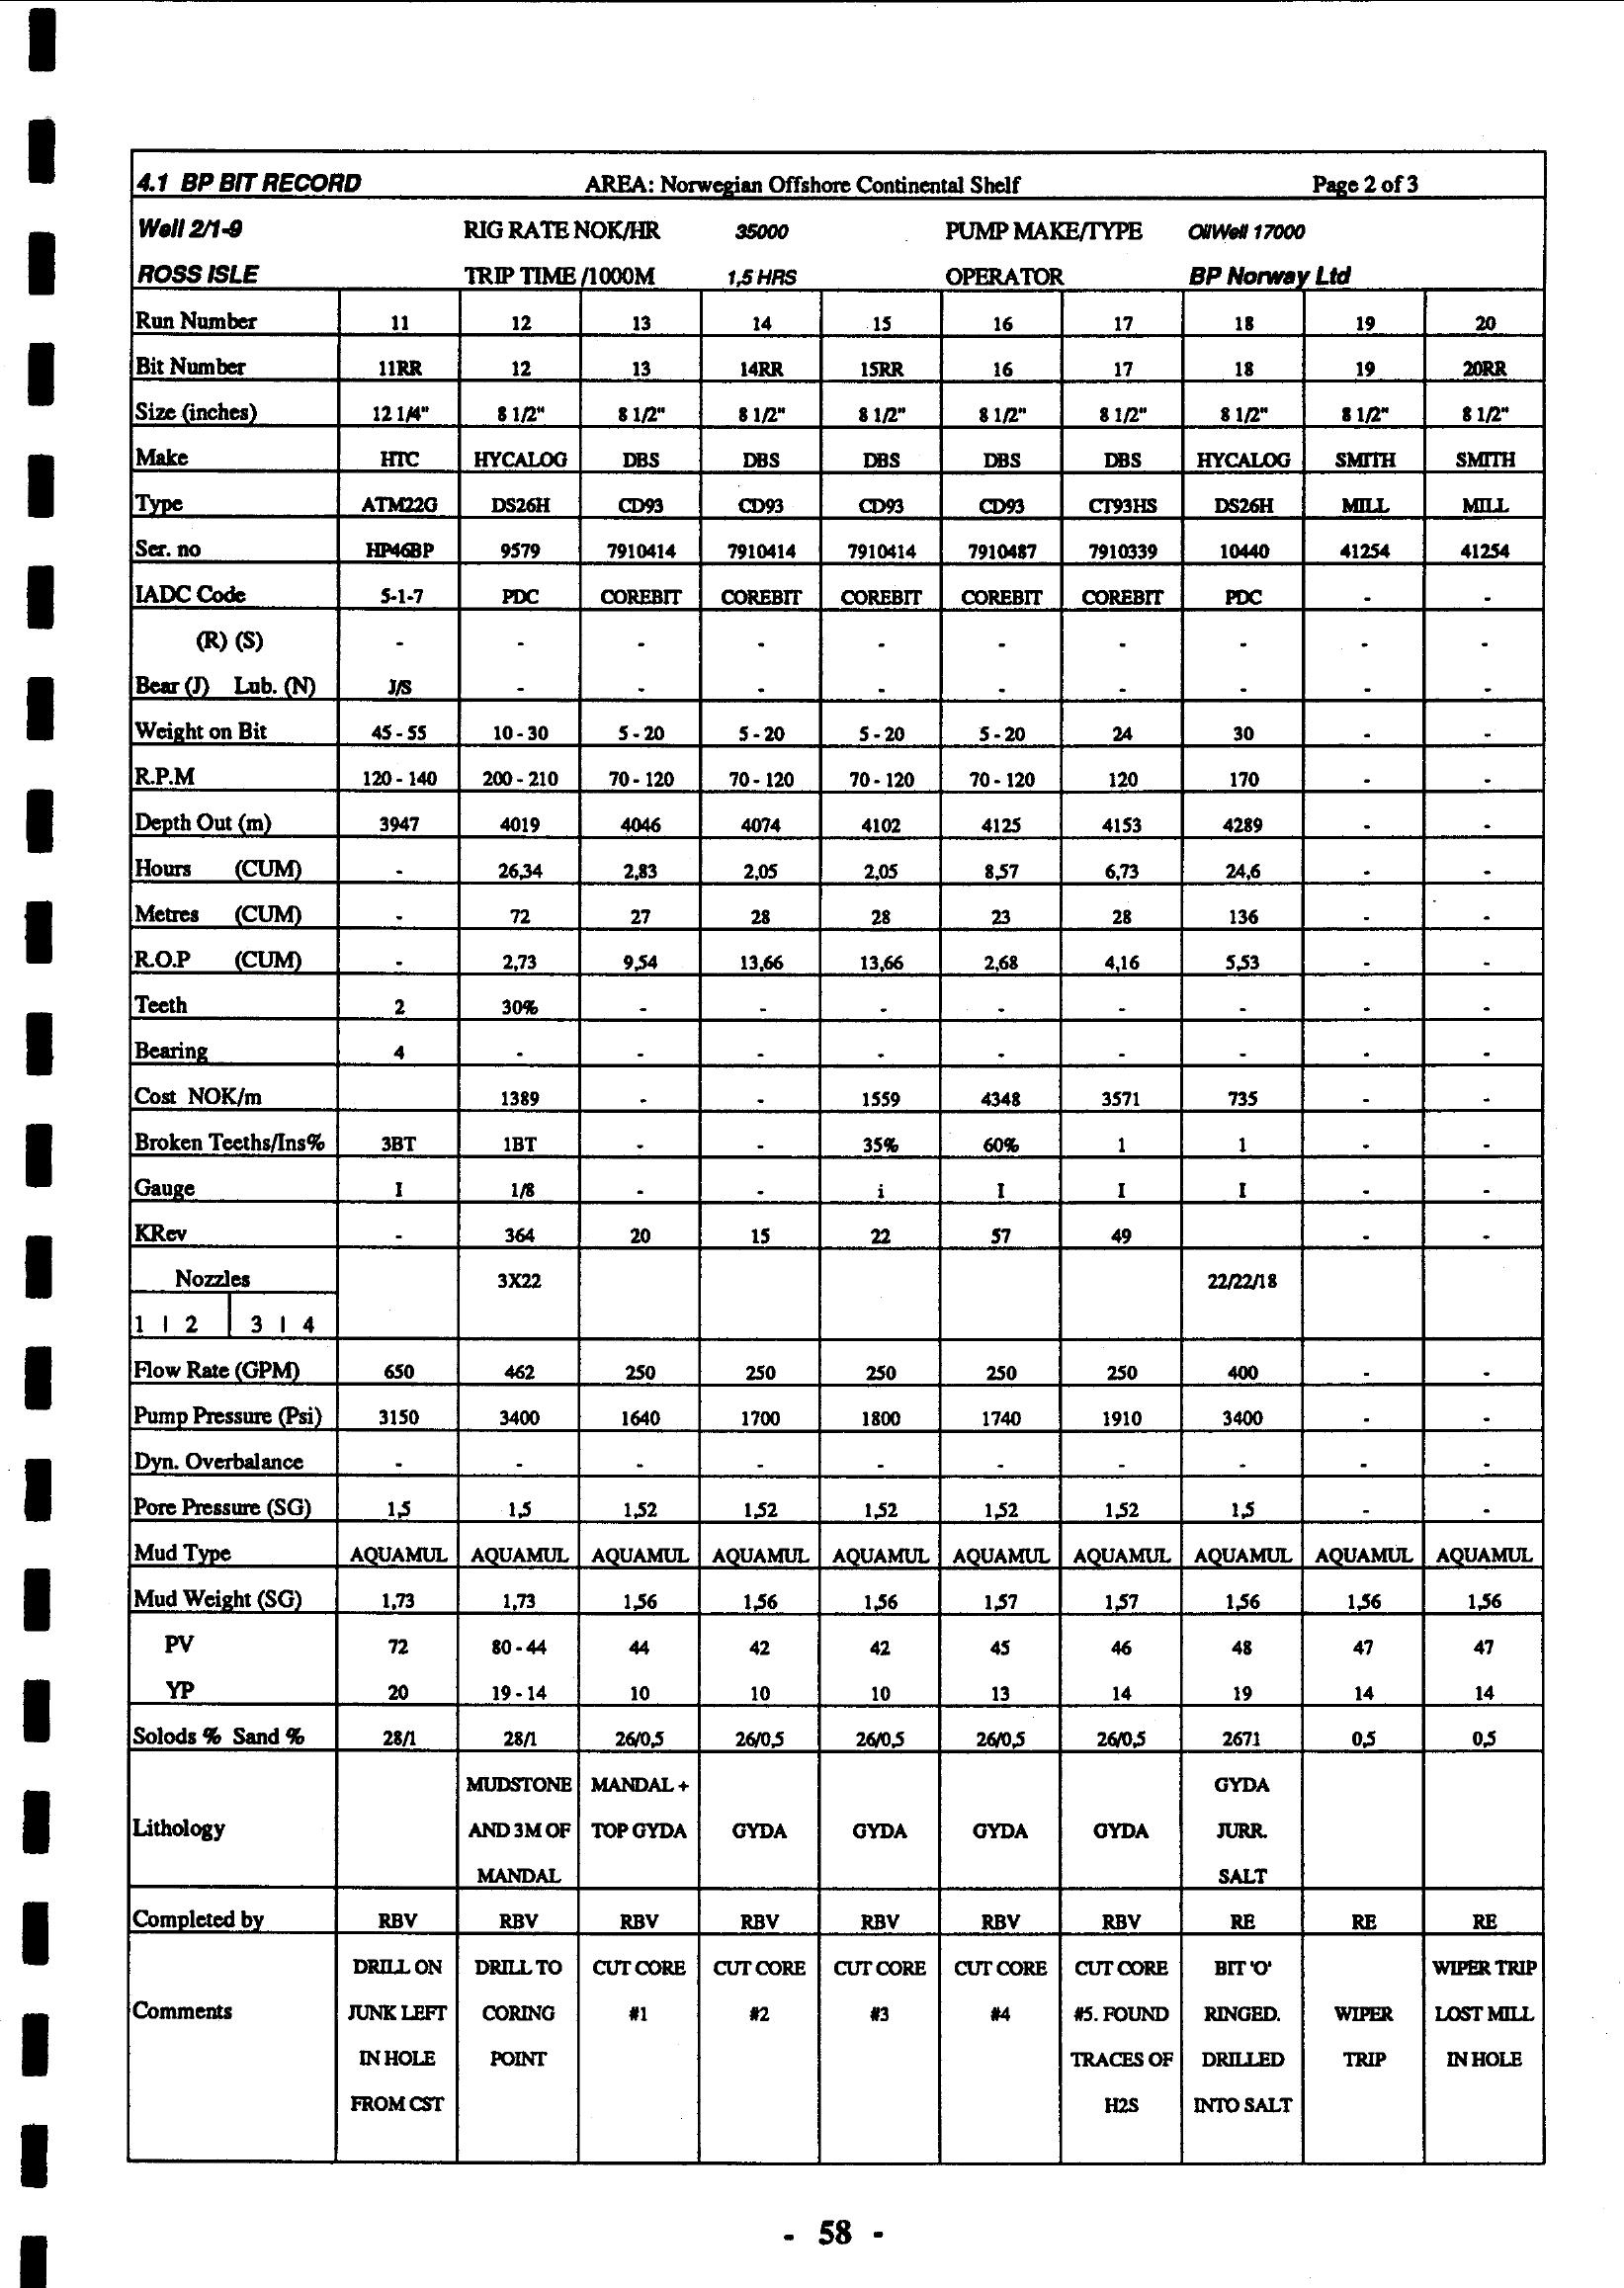table: (98, 128, 1562, 2186)
